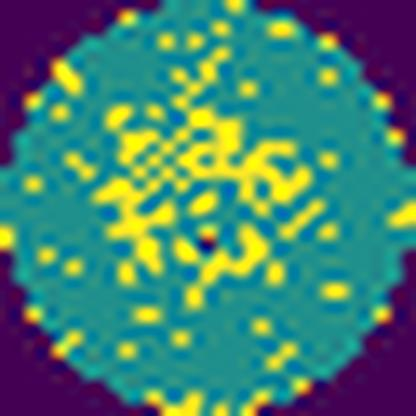Donut: (83, 65, 337, 314)
